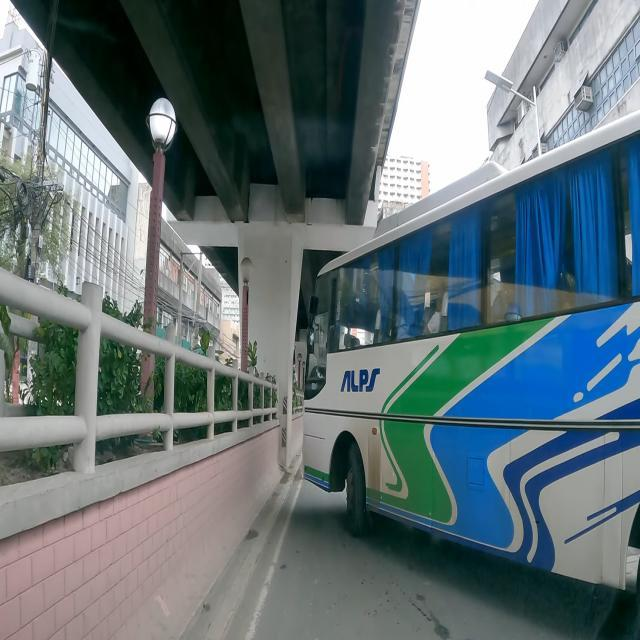bus: (301, 111, 640, 592)
